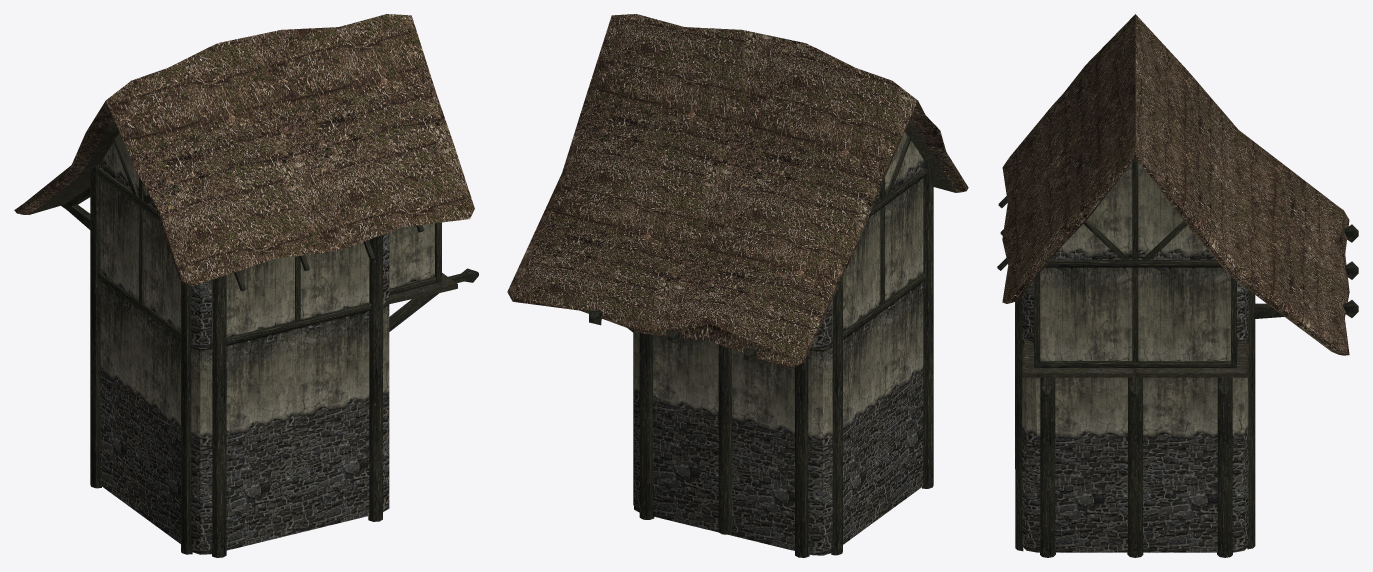
File: ex_common_house_tall_02.obj
3 views of the same model, side by side, from view 1: azimuth 30°, elevation 25°; view 2: azimuth 150°, elevation 25°; view 3: azimuth 270°, elevation 25° (orthographic).
Parts seen in each view (by area): view 1: nifid_6-matrix_Tri_Ex_common_house_tall_02_1-lib, nifid_21-matrix_Tri_Ex_common_house_tall_02_4-lib, nifid_1-matrix_Tri_Ex_common_house_tall_02_0-lib, nifid_16-matrix_Tri_Ex_common_house_tall_02_3-lib, nifid_31-matrix_Tri_Ex_common_house_tall_02_6-lib, nifid_11-matrix_Tri_Ex_common_house_tall_02_2-lib, nifid_26-matrix_Tri_Ex_common_house_tall_02_5-lib, nifid_41-matrix_Tri_Ex_common_house_tall_02_8-lib, nifid_36-matrix_Tri_Ex_common_house_tall_02_7-lib; view 2: nifid_6-matrix_Tri_Ex_common_house_tall_02_1-lib, nifid_21-matrix_Tri_Ex_common_house_tall_02_4-lib, nifid_1-matrix_Tri_Ex_common_house_tall_02_0-lib, nifid_16-matrix_Tri_Ex_common_house_tall_02_3-lib, nifid_31-matrix_Tri_Ex_common_house_tall_02_6-lib, nifid_36-matrix_Tri_Ex_common_house_tall_02_7-lib, nifid_41-matrix_Tri_Ex_common_house_tall_02_8-lib, nifid_11-matrix_Tri_Ex_common_house_tall_02_2-lib, nifid_26-matrix_Tri_Ex_common_house_tall_02_5-lib; view 3: nifid_6-matrix_Tri_Ex_common_house_tall_02_1-lib, nifid_31-matrix_Tri_Ex_common_house_tall_02_6-lib, nifid_16-matrix_Tri_Ex_common_house_tall_02_3-lib, nifid_21-matrix_Tri_Ex_common_house_tall_02_4-lib, nifid_1-matrix_Tri_Ex_common_house_tall_02_0-lib, nifid_11-matrix_Tri_Ex_common_house_tall_02_2-lib, nifid_26-matrix_Tri_Ex_common_house_tall_02_5-lib, nifid_36-matrix_Tri_Ex_common_house_tall_02_7-lib, nifid_41-matrix_Tri_Ex_common_house_tall_02_8-lib.
Boxes of the visible parts, x1,y1,x2,y2 form: nifid_6-matrix_Tri_Ex_common_house_tall_02_1-lib: (14, 14, 474, 286); nifid_21-matrix_Tri_Ex_common_house_tall_02_4-lib: (100, 383, 389, 554); nifid_1-matrix_Tri_Ex_common_house_tall_02_0-lib: (100, 281, 369, 450); nifid_16-matrix_Tri_Ex_common_house_tall_02_3-lib: (61, 137, 478, 557); nifid_31-matrix_Tri_Ex_common_house_tall_02_6-lib: (100, 132, 434, 348); nifid_11-matrix_Tri_Ex_common_house_tall_02_2-lib: (29, 118, 457, 304); nifid_26-matrix_Tri_Ex_common_house_tall_02_5-lib: (191, 232, 389, 349); nifid_41-matrix_Tri_Ex_common_house_tall_02_8-lib: (191, 304, 389, 451); nifid_36-matrix_Tri_Ex_common_house_tall_02_7-lib: (200, 348, 211, 451); nifid_6-matrix_Tri_Ex_common_house_tall_02_1-lib: (507, 14, 968, 368); nifid_21-matrix_Tri_Ex_common_house_tall_02_4-lib: (634, 383, 923, 555); nifid_1-matrix_Tri_Ex_common_house_tall_02_0-lib: (653, 282, 923, 451); nifid_16-matrix_Tri_Ex_common_house_tall_02_3-lib: (589, 136, 933, 557); nifid_31-matrix_Tri_Ex_common_house_tall_02_6-lib: (810, 132, 924, 348); nifid_36-matrix_Tri_Ex_common_house_tall_02_7-lib: (634, 330, 832, 452); nifid_41-matrix_Tri_Ex_common_house_tall_02_8-lib: (811, 349, 822, 452); nifid_11-matrix_Tri_Ex_common_house_tall_02_2-lib: (904, 118, 955, 192); nifid_26-matrix_Tri_Ex_common_house_tall_02_5-lib: (811, 301, 832, 349); nifid_6-matrix_Tri_Ex_common_house_tall_02_1-lib: (1002, 14, 1349, 355); nifid_31-matrix_Tri_Ex_common_house_tall_02_6-lib: (1040, 162, 1230, 360); nifid_16-matrix_Tri_Ex_common_house_tall_02_3-lib: (997, 158, 1358, 557); nifid_21-matrix_Tri_Ex_common_house_tall_02_4-lib: (1022, 444, 1248, 552); nifid_1-matrix_Tri_Ex_common_house_tall_02_0-lib: (1035, 377, 1235, 449); nifid_11-matrix_Tri_Ex_common_house_tall_02_2-lib: (1022, 339, 1249, 377); nifid_26-matrix_Tri_Ex_common_house_tall_02_5-lib: (1022, 281, 1248, 342); nifid_36-matrix_Tri_Ex_common_house_tall_02_7-lib: (1026, 342, 1248, 449); nifid_41-matrix_Tri_Ex_common_house_tall_02_8-lib: (1022, 341, 1244, 449).
Size of the model in its own units: 21.71 by 29.03 by 20.71.
